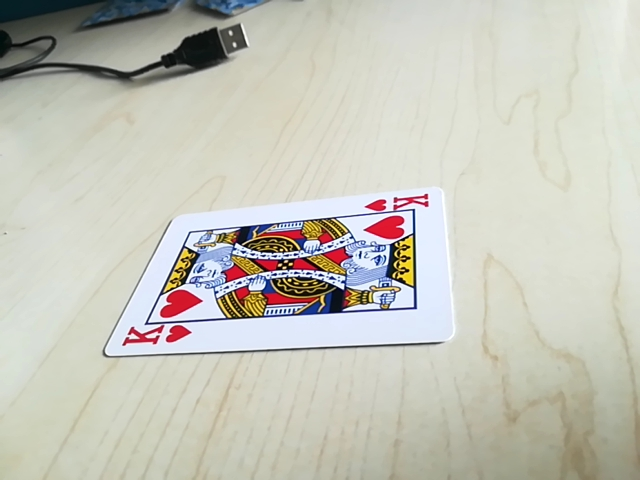hx k: (117, 323, 197, 354), (364, 192, 435, 218)
